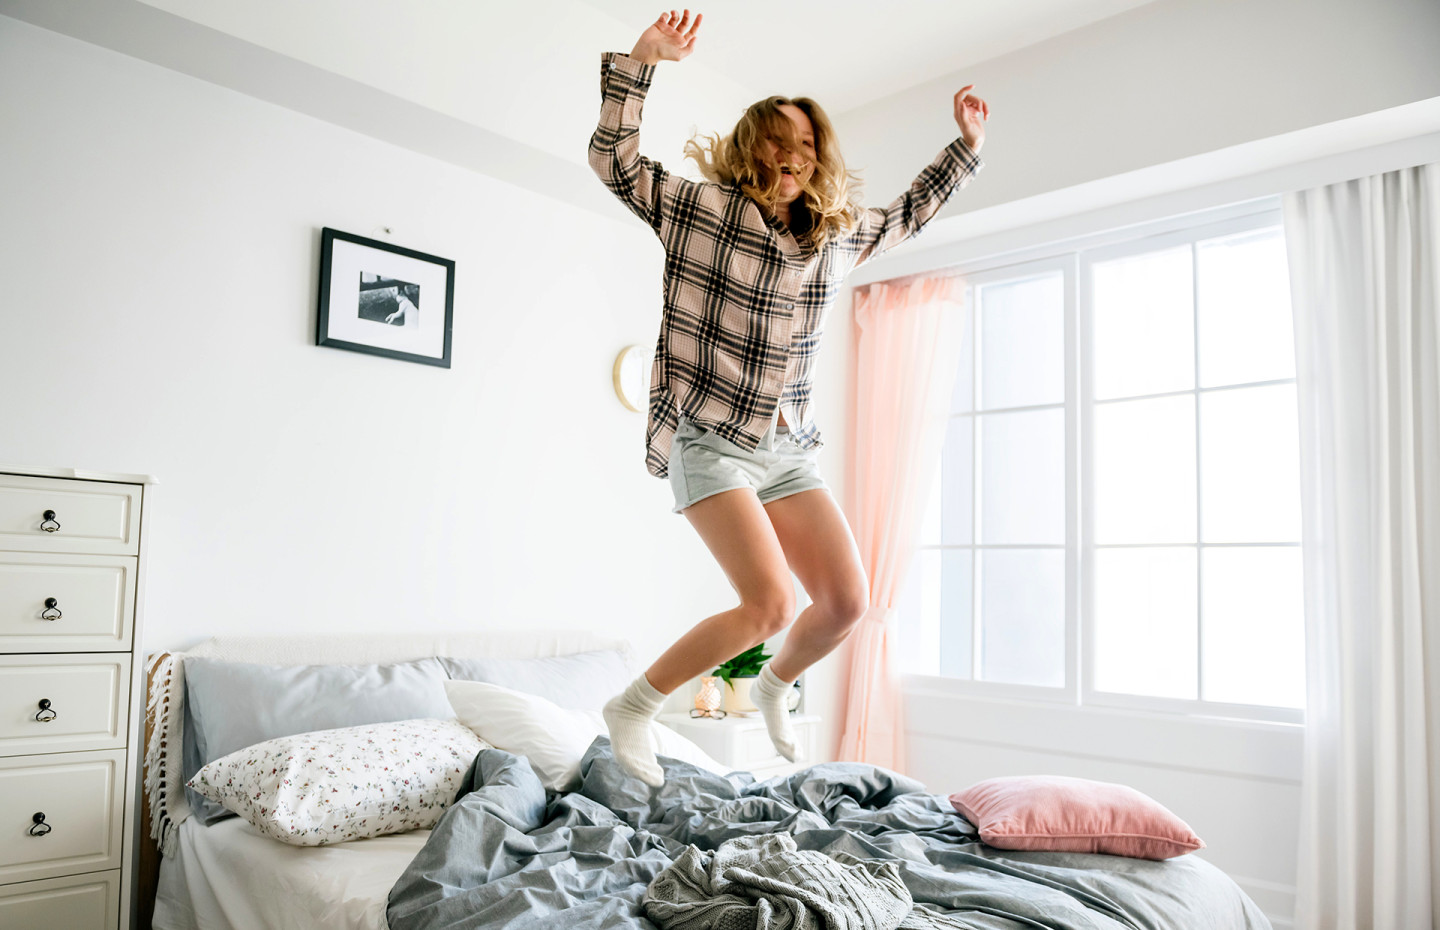person: (588, 7, 991, 785)
